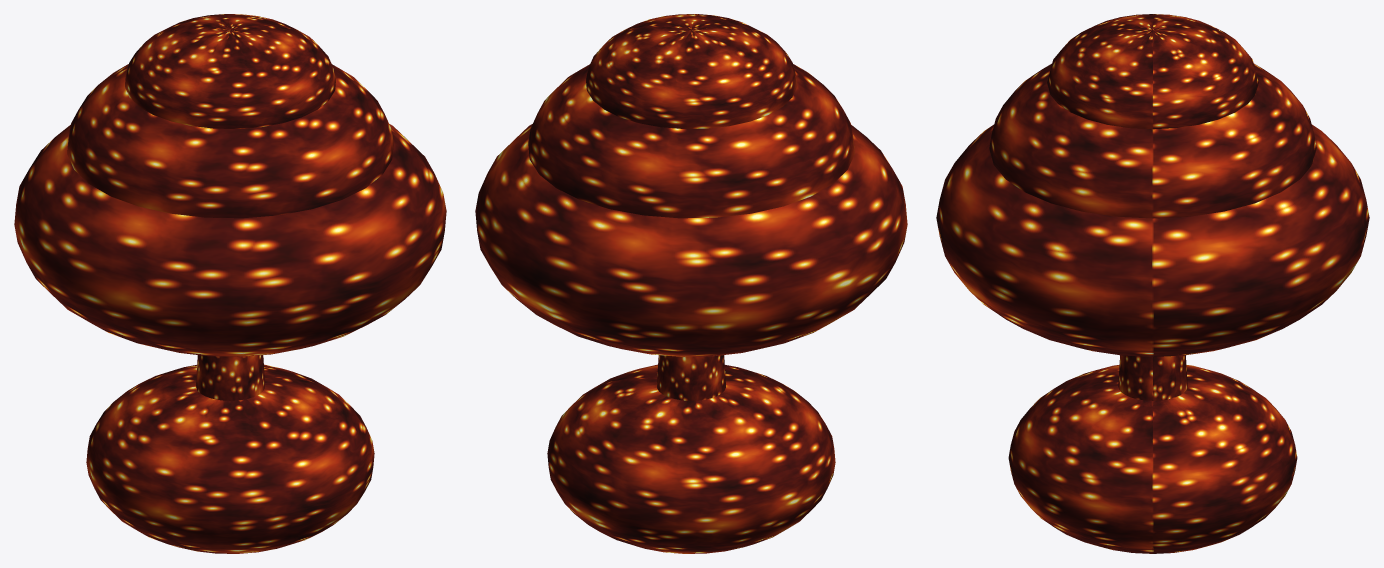
Rendered from mushroom_cloud.glb.
The picture shows the model from 3 angles, left to right: view 1: azimuth 30°, elevation 25°; view 2: azimuth 150°, elevation 25°; view 3: azimuth 270°, elevation 25°; orthographic projection.
Visible parts, largest first — view 1: mushroom_cloud; view 2: mushroom_cloud; view 3: mushroom_cloud.
Boxes of the visible parts, x1,y1,x2,y2 form: mushroom_cloud: (14,14,446,553); mushroom_cloud: (475,14,907,553); mushroom_cloud: (936,14,1369,553).
Bounding box in the file's own units: 0.9 × 1.15 × 0.9.
1 material, 1 textured.
